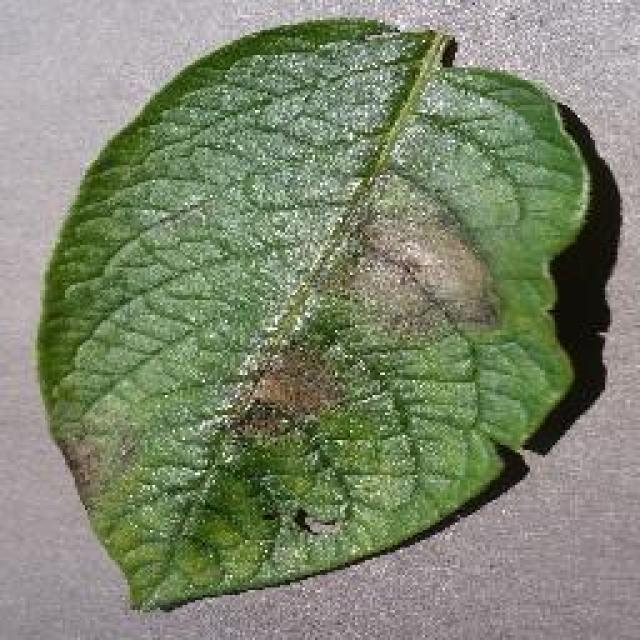Potato___Late_blight: (35, 13, 594, 615)
